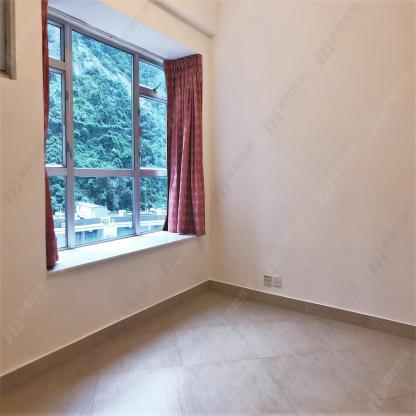Windowsill: (43, 0, 204, 278)
